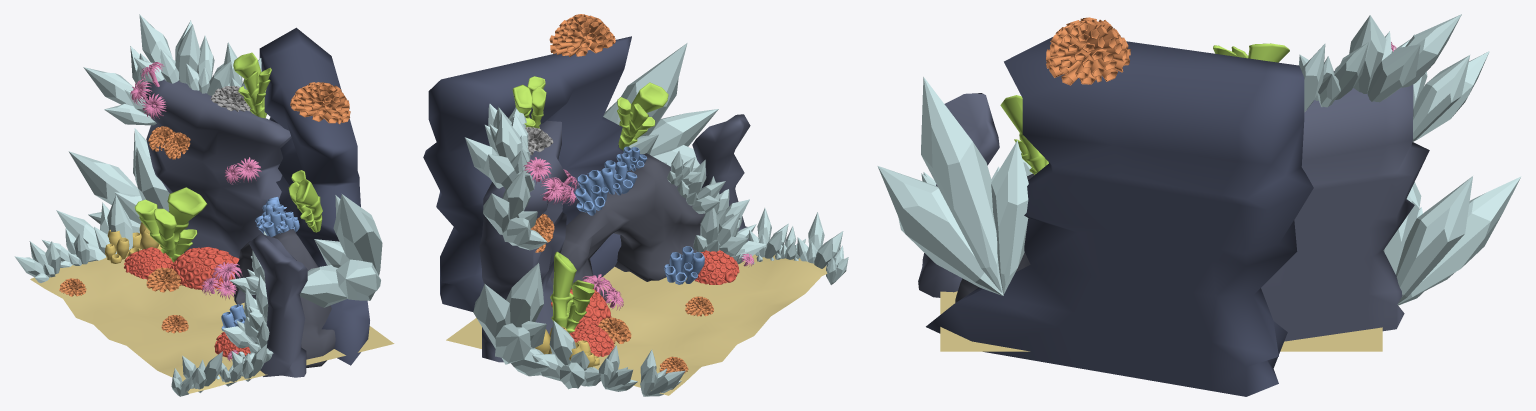
File: lots_of_gems.fbx
The picture shows the model from 3 angles, left to right: view 1: azimuth 30°, elevation 25°; view 2: azimuth 150°, elevation 25°; view 3: azimuth 270°, elevation 25°; orthographic projection. The views are drawn at different scales.
Visible parts, largest first — view 1: pCube4, pCube5, pPlane25, Crystal28, pCylinder64, Crystal24, pCube3, pCylinder65, Crystal20, Crystal23, Crystal25, polySurface175 (+32 smaller); view 2: pCube5, pPlane25, pCube3, pCube4, Crystal24, Crystal28, pCylinder64, Crystal23, Crystal20, Crystal25, pCylinder65, polySurface175 (+27 smaller); view 3: pCube5, pCube4, Crystal28, Crystal24, Crystal20, polySurface175, Crystal23, pCylinder64, pPlane25, Crystal21, pCylinder66, Crystal22 (+1 smaller).
Boxes of the visible parts, bbox=[...] form: pCube4: bbox=[145, 79, 291, 258]; pCube5: bbox=[259, 27, 369, 365]; pPlane25: bbox=[30, 256, 394, 393]; Crystal28: bbox=[299, 194, 382, 307]; pCylinder64: bbox=[248, 233, 307, 377]; Crystal24: bbox=[68, 128, 169, 233]; pCube3: bbox=[233, 228, 335, 367]; pCylinder65: bbox=[134, 187, 207, 262]; Crystal20: bbox=[134, 14, 200, 83]; Crystal23: bbox=[83, 46, 156, 125]; Crystal25: bbox=[56, 195, 132, 261]; polySurface175: bbox=[290, 82, 350, 124]; pCube5: bbox=[423, 36, 631, 311]; pPlane25: bbox=[446, 254, 827, 395]; pCube3: bbox=[550, 153, 704, 300]; pCube4: bbox=[479, 120, 567, 362]; Crystal24: bbox=[473, 263, 549, 376]; Crystal28: bbox=[603, 43, 718, 171]; pCylinder64: bbox=[692, 114, 750, 241]; Crystal23: bbox=[483, 169, 547, 250]; Crystal20: bbox=[465, 113, 534, 191]; Crystal25: bbox=[532, 320, 600, 389]; pCylinder65: bbox=[550, 251, 594, 333]; polySurface175: bbox=[549, 14, 615, 56]; pCube5: bbox=[926, 37, 1313, 396]; pCube4: bbox=[1261, 71, 1429, 341]; Crystal28: bbox=[877, 77, 1028, 295]; Crystal24: bbox=[1383, 176, 1521, 305]; Crystal20: bbox=[1349, 14, 1461, 102]; polySurface175: bbox=[1046, 17, 1130, 85]; Crystal23: bbox=[1412, 34, 1489, 141]; pCylinder64: bbox=[918, 93, 999, 297]; pPlane25: bbox=[940, 291, 1382, 351]; Crystal21: bbox=[1298, 42, 1368, 107]; pCylinder66: bbox=[1000, 95, 1048, 174]; Crystal22: bbox=[1301, 43, 1325, 112].
Bounding box in the file's own units: 3767 × 3079 × 5362.
